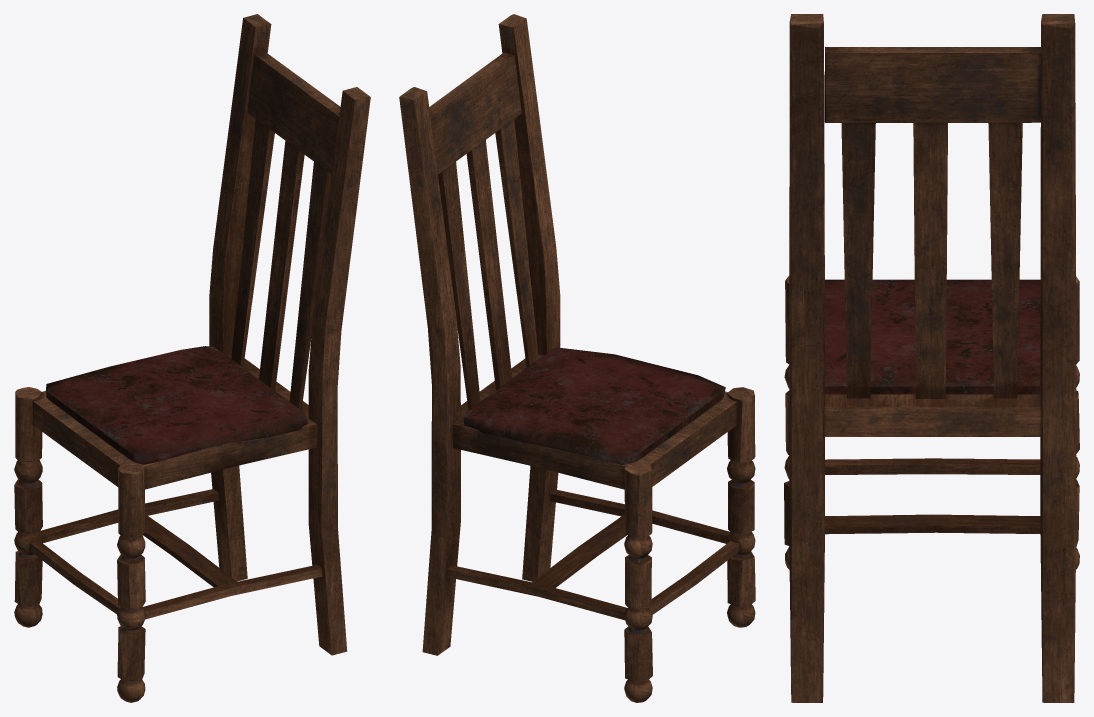
The model's file is vintage_wooden_chair.glb.
3 renders of one model, left to right at view 1: azimuth 30°, elevation 25°; view 2: azimuth 150°, elevation 25°; view 3: azimuth 270°, elevation 25°, orthographic. The views are drawn at different scales.
Visible parts, largest first — view 1: Cube; view 2: Cube; view 3: Cube.
Part boxes in pixels (left/top/right/bottom): Cube: left=14, top=14, right=370, bottom=702; Cube: left=399, top=14, right=755, bottom=702; Cube: left=784, top=14, right=1079, bottom=702.
Bounding box in the file's own units: 0.5864 × 1.25 × 0.4798.
2 materials, 2 textured.
